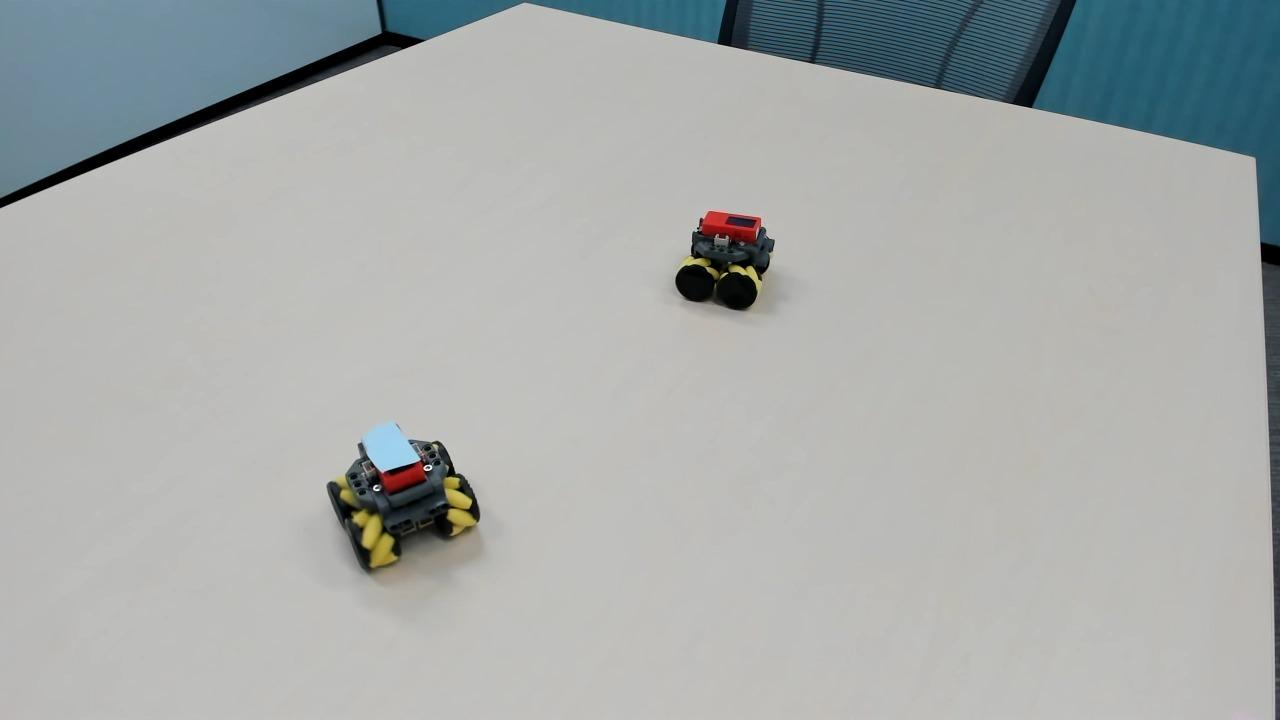B-Robot: (323, 420, 491, 579)
R-Robot: (662, 198, 782, 312)
